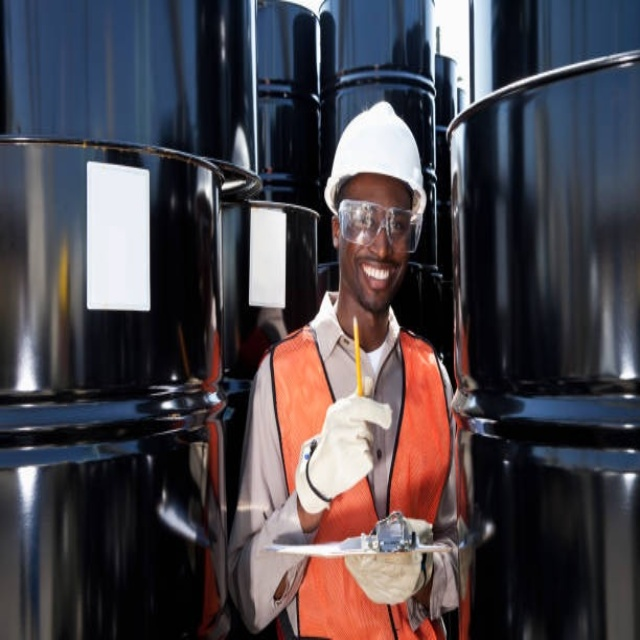Gafas: (337, 199, 422, 255)
Guantes: (295, 389, 392, 511), (345, 515, 438, 610)
Sin_mascara: (360, 257, 398, 300)
